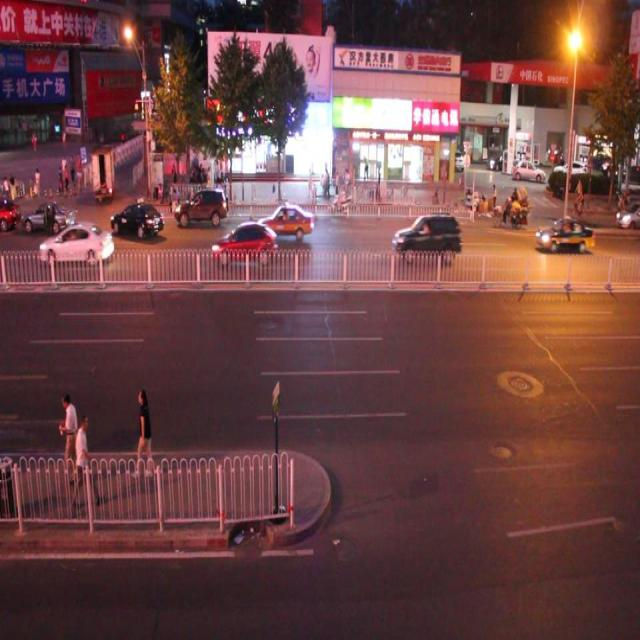bus: (92, 145, 115, 198)
car: (391, 211, 463, 264), (39, 220, 115, 266), (211, 220, 276, 264), (174, 190, 228, 236), (20, 196, 77, 238), (110, 199, 164, 241), (536, 217, 594, 254), (258, 200, 312, 239), (613, 195, 640, 228)
